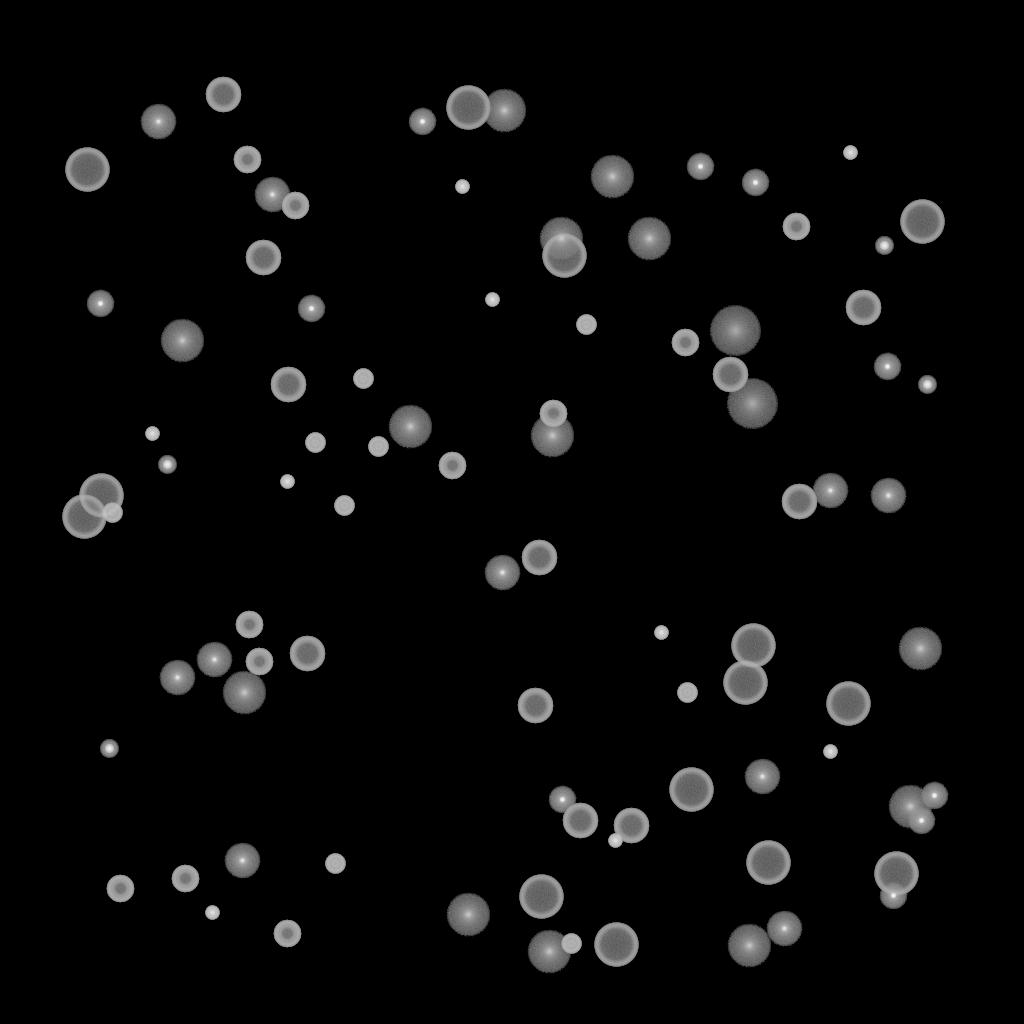depth:-10: (873, 353, 901, 381), (907, 807, 935, 835), (741, 169, 769, 197), (548, 786, 576, 814), (86, 290, 114, 318), (408, 108, 436, 136), (879, 882, 907, 910), (686, 153, 714, 181), (920, 782, 948, 810), (297, 295, 325, 323)
depth:-20: (918, 376, 936, 394), (100, 740, 118, 758), (158, 456, 176, 474), (875, 237, 893, 255)
depth:-30: (280, 475, 294, 489), (485, 293, 499, 307), (608, 834, 622, 848), (823, 745, 837, 759), (145, 427, 159, 441), (205, 906, 219, 920), (654, 626, 668, 640), (843, 146, 857, 160), (455, 180, 469, 194)
depth:-40: (353, 369, 373, 389), (305, 433, 325, 453), (677, 683, 697, 703), (325, 854, 345, 874), (576, 315, 596, 335), (561, 934, 581, 954), (102, 503, 122, 523), (334, 496, 354, 516), (368, 437, 388, 457)
depth:-50: (245, 648, 273, 676), (233, 146, 261, 174), (281, 192, 309, 220), (235, 611, 263, 639), (171, 865, 199, 893), (671, 329, 699, 357), (782, 213, 810, 241), (539, 400, 567, 428), (273, 920, 301, 948), (106, 875, 134, 903), (438, 452, 466, 480)
depth:-60: (613, 808, 649, 844), (845, 290, 881, 326), (562, 803, 598, 839), (205, 77, 241, 113), (245, 240, 281, 276), (270, 367, 306, 403), (289, 636, 325, 672), (781, 484, 817, 520), (517, 688, 553, 724), (521, 540, 557, 576), (712, 357, 748, 393)
depth:-70: (65, 148, 109, 192), (746, 841, 790, 885), (900, 200, 944, 244), (519, 875, 563, 919), (594, 923, 638, 967), (826, 682, 870, 726), (874, 852, 918, 896), (79, 474, 123, 518), (542, 234, 586, 278), (669, 768, 713, 812), (723, 661, 767, 705), (731, 624, 775, 668), (446, 86, 490, 130), (62, 495, 106, 539)
depth:0: (159, 660, 195, 696), (224, 843, 260, 879), (870, 478, 906, 514), (812, 473, 848, 509), (254, 177, 290, 213), (196, 642, 232, 678), (744, 759, 780, 795), (140, 104, 176, 140), (766, 911, 802, 947), (484, 555, 520, 591)
depth:10: (898, 627, 942, 671), (539, 217, 583, 261), (530, 414, 574, 458), (590, 155, 634, 199), (222, 671, 266, 715), (446, 893, 490, 937), (160, 319, 204, 363), (527, 930, 571, 974), (627, 217, 671, 261), (482, 89, 526, 133), (888, 785, 932, 829), (727, 924, 771, 968), (388, 405, 432, 449)
depth:20: (709, 306, 761, 356), (726, 379, 778, 429)
